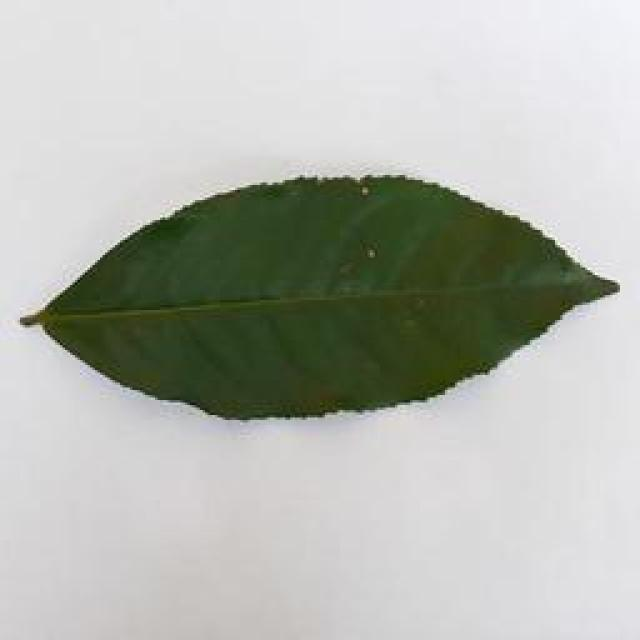Healthy: (10, 166, 628, 423)
